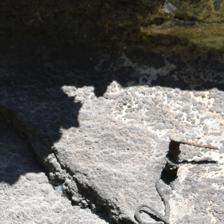Crack: (3, 58, 122, 165)
